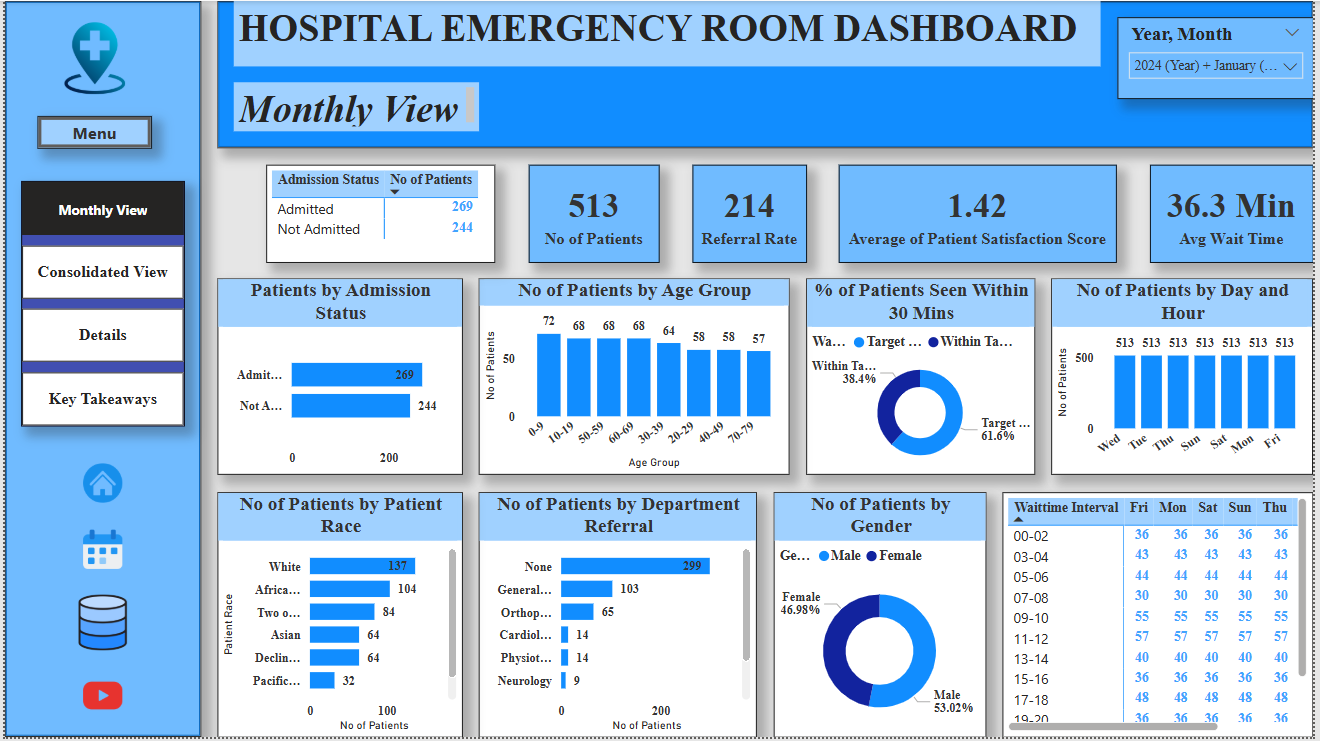

This screenshot's page, from the dashboard's own definition file:
{"tool":"powerbi","page":{"name":"Monthly View","canvas":[1280,720],"ordinal":0},"visuals":[{"type":"shape","box":[0,0,192,720],"z":0},{"type":"shape","box":[208,0,1072,144],"z":1000},{"type":"card","fields":{"Values":["Hospital ER_Hospital ER.No of Patients"]},"box":[512,160,128,96],"z":2000},{"type":"card","fields":{"Values":["Hospital ER_Hospital ER.Referral Rate"]},"box":[672,160,112,96],"z":3000},{"type":"card","fields":{"Values":["Avg(Hospital ER_Hospital ER.Patient Satisfaction Score)"]},"box":[816,160,272,96],"z":4000},{"type":"card","fields":{"Values":["Hospital ER_Hospital ER.Avg Wait Time"]},"box":[1120,160,160,96],"z":5000},{"type":"donutChart","title":"% of Patients Seen Within 30 Mins","fields":{"Y":["Hospital ER_Hospital ER.No of Patients"],"Category":["Hospital ER_Hospital ER.Waittime Status"]},"box":[784,272,224,192],"z":6000},{"type":"donutChart","title":"No of Patients by Gender","fields":{"Category":["Hospital ER_Hospital ER.Full Gender"],"Y":["Hospital ER_Hospital ER.No of Patients"]},"box":[752,480,208,240],"z":7000},{"type":"clusteredBarChart","fields":{"Category":["Hospital ER_Hospital ER.Department Referral"],"Y":["Hospital ER_Hospital ER.No of Patients"]},"box":[464,480,272,240],"z":8000},{"type":"clusteredBarChart","fields":{"Category":["Hospital ER_Hospital ER.Patient Race"],"Y":["Hospital ER_Hospital ER.No of Patients"]},"box":[208,480,240,240],"z":9000},{"type":"clusteredColumnChart","fields":{"Category":["Hospital ER_Hospital ER.Age Group"],"Y":["Hospital ER_Hospital ER.No of Patients"]},"box":[464,272,304,192],"z":10000},{"type":"clusteredColumnChart","title":"No of Patients by Day and Hour","fields":{"Category":["Calendar Table.Day Name"],"Y":["Hospital ER_Hospital ER.No of Patients"]},"box":[1024,272,256,192],"z":11000},{"type":"pivotTable","fields":{"Rows":["Hospital ER_Hospital ER.Admission Status"],"Values":["Hospital ER_Hospital ER.No of Patients"]},"box":[256,160,224,96],"z":12000},{"type":"barChart","title":"Patients by Admission Status","fields":{"Category":["Hospital ER_Hospital ER.Admission Status"],"Y":["Hospital ER_Hospital ER.No of Patients"]},"box":[208,272,240,192],"z":13000},{"type":"pivotTable","fields":{"Columns":["Calendar Table.Day Name"],"Rows":["Hospital ER_Hospital ER.Waittime Interval"],"Values":["Hospital ER_Hospital ER.No of Patients"]},"box":[976,480,304,240],"z":14000},{"type":"slicer","fields":{"Values":["Hospital ER_Hospital ER.Patient Admission Date.Variation.Date Hierarchy.Year","Hospital ER_Hospital ER.Patient Admission Date.Variation.Date Hierarchy.Month"]},"box":[1088,16,192,80],"z":15000},{"type":"textbox","box":[224,0,848,64],"z":16000},{"type":"textbox","box":[224,80,240,48],"z":17000},{"type":"image","box":[16,16,144,80],"z":18000},{"type":"actionButton","box":[32,112,112,32],"z":19000},{"type":"image","box":[64,448,64,48],"z":20000},{"type":"image","box":[64,512,64,48],"z":21000},{"type":"image","box":[64,576,64,64],"z":22000},{"type":"image","box":[64,656,64,48],"z":23000},{"type":"pageNavigator","box":[16,176,160,240],"z":24000}]}

Visuals, with their boxes in screenshot pixels (x1, y1, x2, y2), scaled from the page's 1280x720 canvas onto the 1320x741 screenshot:
shape: [x1=0, y1=0, x2=198, y2=740]
shape: [x1=214, y1=0, x2=1319, y2=148]
card - Hospital ER_Hospital ER.No of Patients: [x1=528, y1=165, x2=660, y2=263]
card - Hospital ER_Hospital ER.Referral Rate: [x1=693, y1=165, x2=808, y2=263]
card - Avg(Hospital ER_Hospital ER.Patient Satisfaction Score): [x1=842, y1=165, x2=1122, y2=263]
card - Hospital ER_Hospital ER.Avg Wait Time: [x1=1155, y1=165, x2=1319, y2=263]
"% of Patients Seen Within 30 Mins" donutChart: [x1=808, y1=280, x2=1040, y2=478]
"No of Patients by Gender" donutChart: [x1=776, y1=494, x2=990, y2=740]
clusteredBarChart - Hospital ER_Hospital ER.Department Referral x Hospital ER_Hospital ER.No of Patients: [x1=478, y1=494, x2=759, y2=740]
clusteredBarChart - Hospital ER_Hospital ER.Patient Race x Hospital ER_Hospital ER.No of Patients: [x1=214, y1=494, x2=462, y2=740]
clusteredColumnChart - Hospital ER_Hospital ER.Age Group x Hospital ER_Hospital ER.No of Patients: [x1=478, y1=280, x2=792, y2=478]
"No of Patients by Day and Hour" clusteredColumnChart: [x1=1056, y1=280, x2=1319, y2=478]
pivotTable - Hospital ER_Hospital ER.Admission Status x Hospital ER_Hospital ER.No of Patients: [x1=264, y1=165, x2=495, y2=263]
"Patients by Admission Status" barChart: [x1=214, y1=280, x2=462, y2=478]
pivotTable - Calendar Table.Day Name x Hospital ER_Hospital ER.Waittime Interval: [x1=1006, y1=494, x2=1319, y2=740]
slicer - Hospital ER_Hospital ER.Patient Admission Date.Variation.Date Hierarchy.Year x Hospital ER_Hospital ER.Patient Admission Date.Variation.Date Hierarchy.Month: [x1=1122, y1=16, x2=1319, y2=99]
textbox: [x1=231, y1=0, x2=1106, y2=66]
textbox: [x1=231, y1=82, x2=478, y2=132]
image: [x1=16, y1=16, x2=165, y2=99]
actionButton: [x1=33, y1=115, x2=148, y2=148]
image: [x1=66, y1=461, x2=132, y2=510]
image: [x1=66, y1=527, x2=132, y2=576]
image: [x1=66, y1=593, x2=132, y2=659]
image: [x1=66, y1=675, x2=132, y2=725]
pageNavigator: [x1=16, y1=181, x2=182, y2=428]
